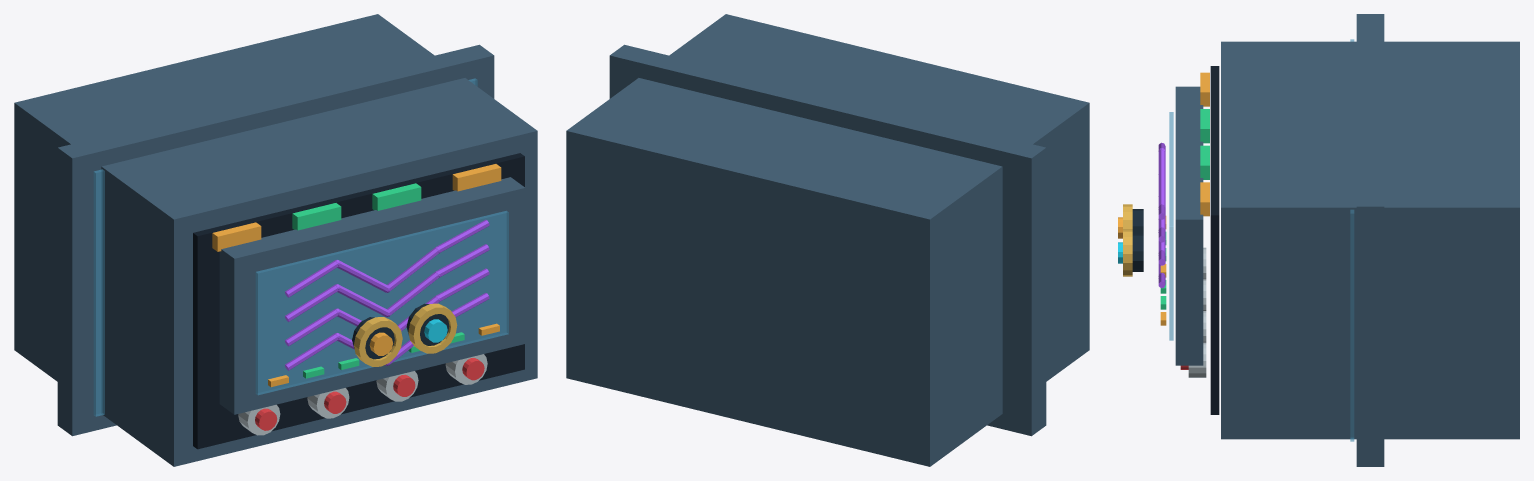
File: 53_L81_CorrelatedFaultPatternAnalyzer.fbx
3 renders of one model, left to right at view 1: azimuth 30°, elevation 25°; view 2: azimuth 150°, elevation 25°; view 3: azimuth 270°, elevation 25°, orthographic. The views are drawn at different scales.
Parts seen in each view (by area): view 1: CorrelatedFaultPatternAnalyzer, CorrelatedFaultPatternAnalyzer_Part_0051, CorrelatedFaultPatternAnalyzer_Part_0052; view 2: CorrelatedFaultPatternAnalyzer, CorrelatedFaultPatternAnalyzer_Part_0051; view 3: CorrelatedFaultPatternAnalyzer, CorrelatedFaultPatternAnalyzer_Part_0051, CorrelatedFaultPatternAnalyzer_Part_0052.
Boxes of the visible parts, left/top/right/bottom form: CorrelatedFaultPatternAnalyzer: left=14, top=14, right=537, bottom=466; CorrelatedFaultPatternAnalyzer_Part_0051: left=57, top=44, right=494, bottom=436; CorrelatedFaultPatternAnalyzer_Part_0052: left=93, top=78, right=477, bottom=416; CorrelatedFaultPatternAnalyzer: left=566, top=14, right=1089, bottom=466; CorrelatedFaultPatternAnalyzer_Part_0051: left=609, top=44, right=1046, bottom=436; CorrelatedFaultPatternAnalyzer: left=1118, top=41, right=1519, bottom=439; CorrelatedFaultPatternAnalyzer_Part_0051: left=1356, top=14, right=1384, bottom=466; CorrelatedFaultPatternAnalyzer_Part_0052: left=1350, top=39, right=1354, bottom=441.
Bounding box in the file's own units: 116 × 73 × 102.
